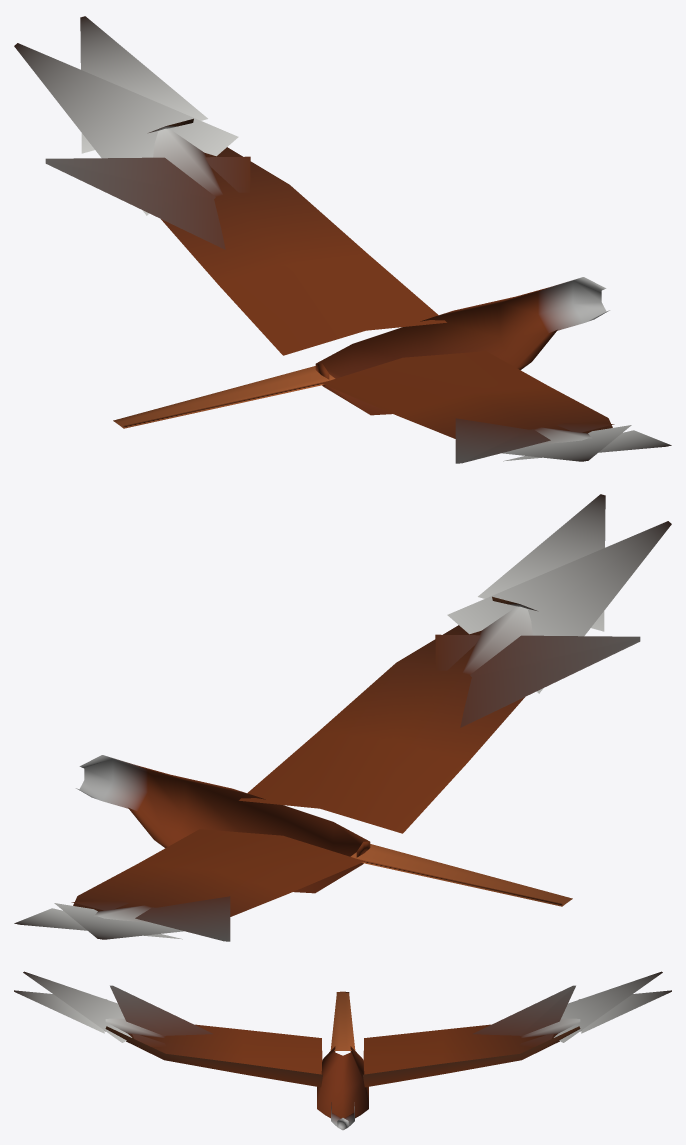
File: SM_Bird_red_kite_flap1_LOD2.glb
The picture shows the model from 3 angles, top to bottom: view 1: azimuth 30°, elevation 25°; view 2: azimuth 150°, elevation 25°; view 3: azimuth 270°, elevation 25°; orthographic projection. The views are drawn at different scales.
Visible parts, largest first — view 1: SM_Bird_red_kite_flap1_LOD2; view 2: SM_Bird_red_kite_flap1_LOD2; view 3: SM_Bird_red_kite_flap1_LOD2.
Part boxes in pixels (box(x1,y1,x2,y2)): SM_Bird_red_kite_flap1_LOD2: box(14, 16, 671, 463); SM_Bird_red_kite_flap1_LOD2: box(14, 494, 671, 941); SM_Bird_red_kite_flap1_LOD2: box(14, 971, 671, 1130).
Bounding box in the file's own units: 0.686 × 0.2682 × 1.43.
